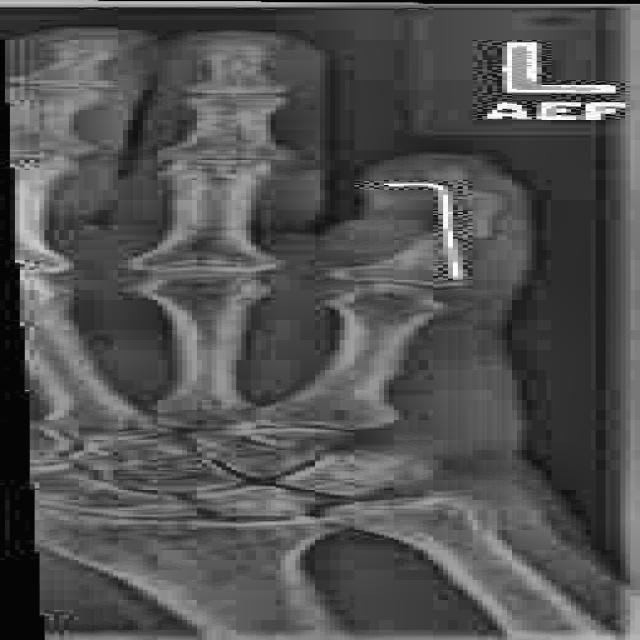fingers positive: (358, 219, 525, 271)
